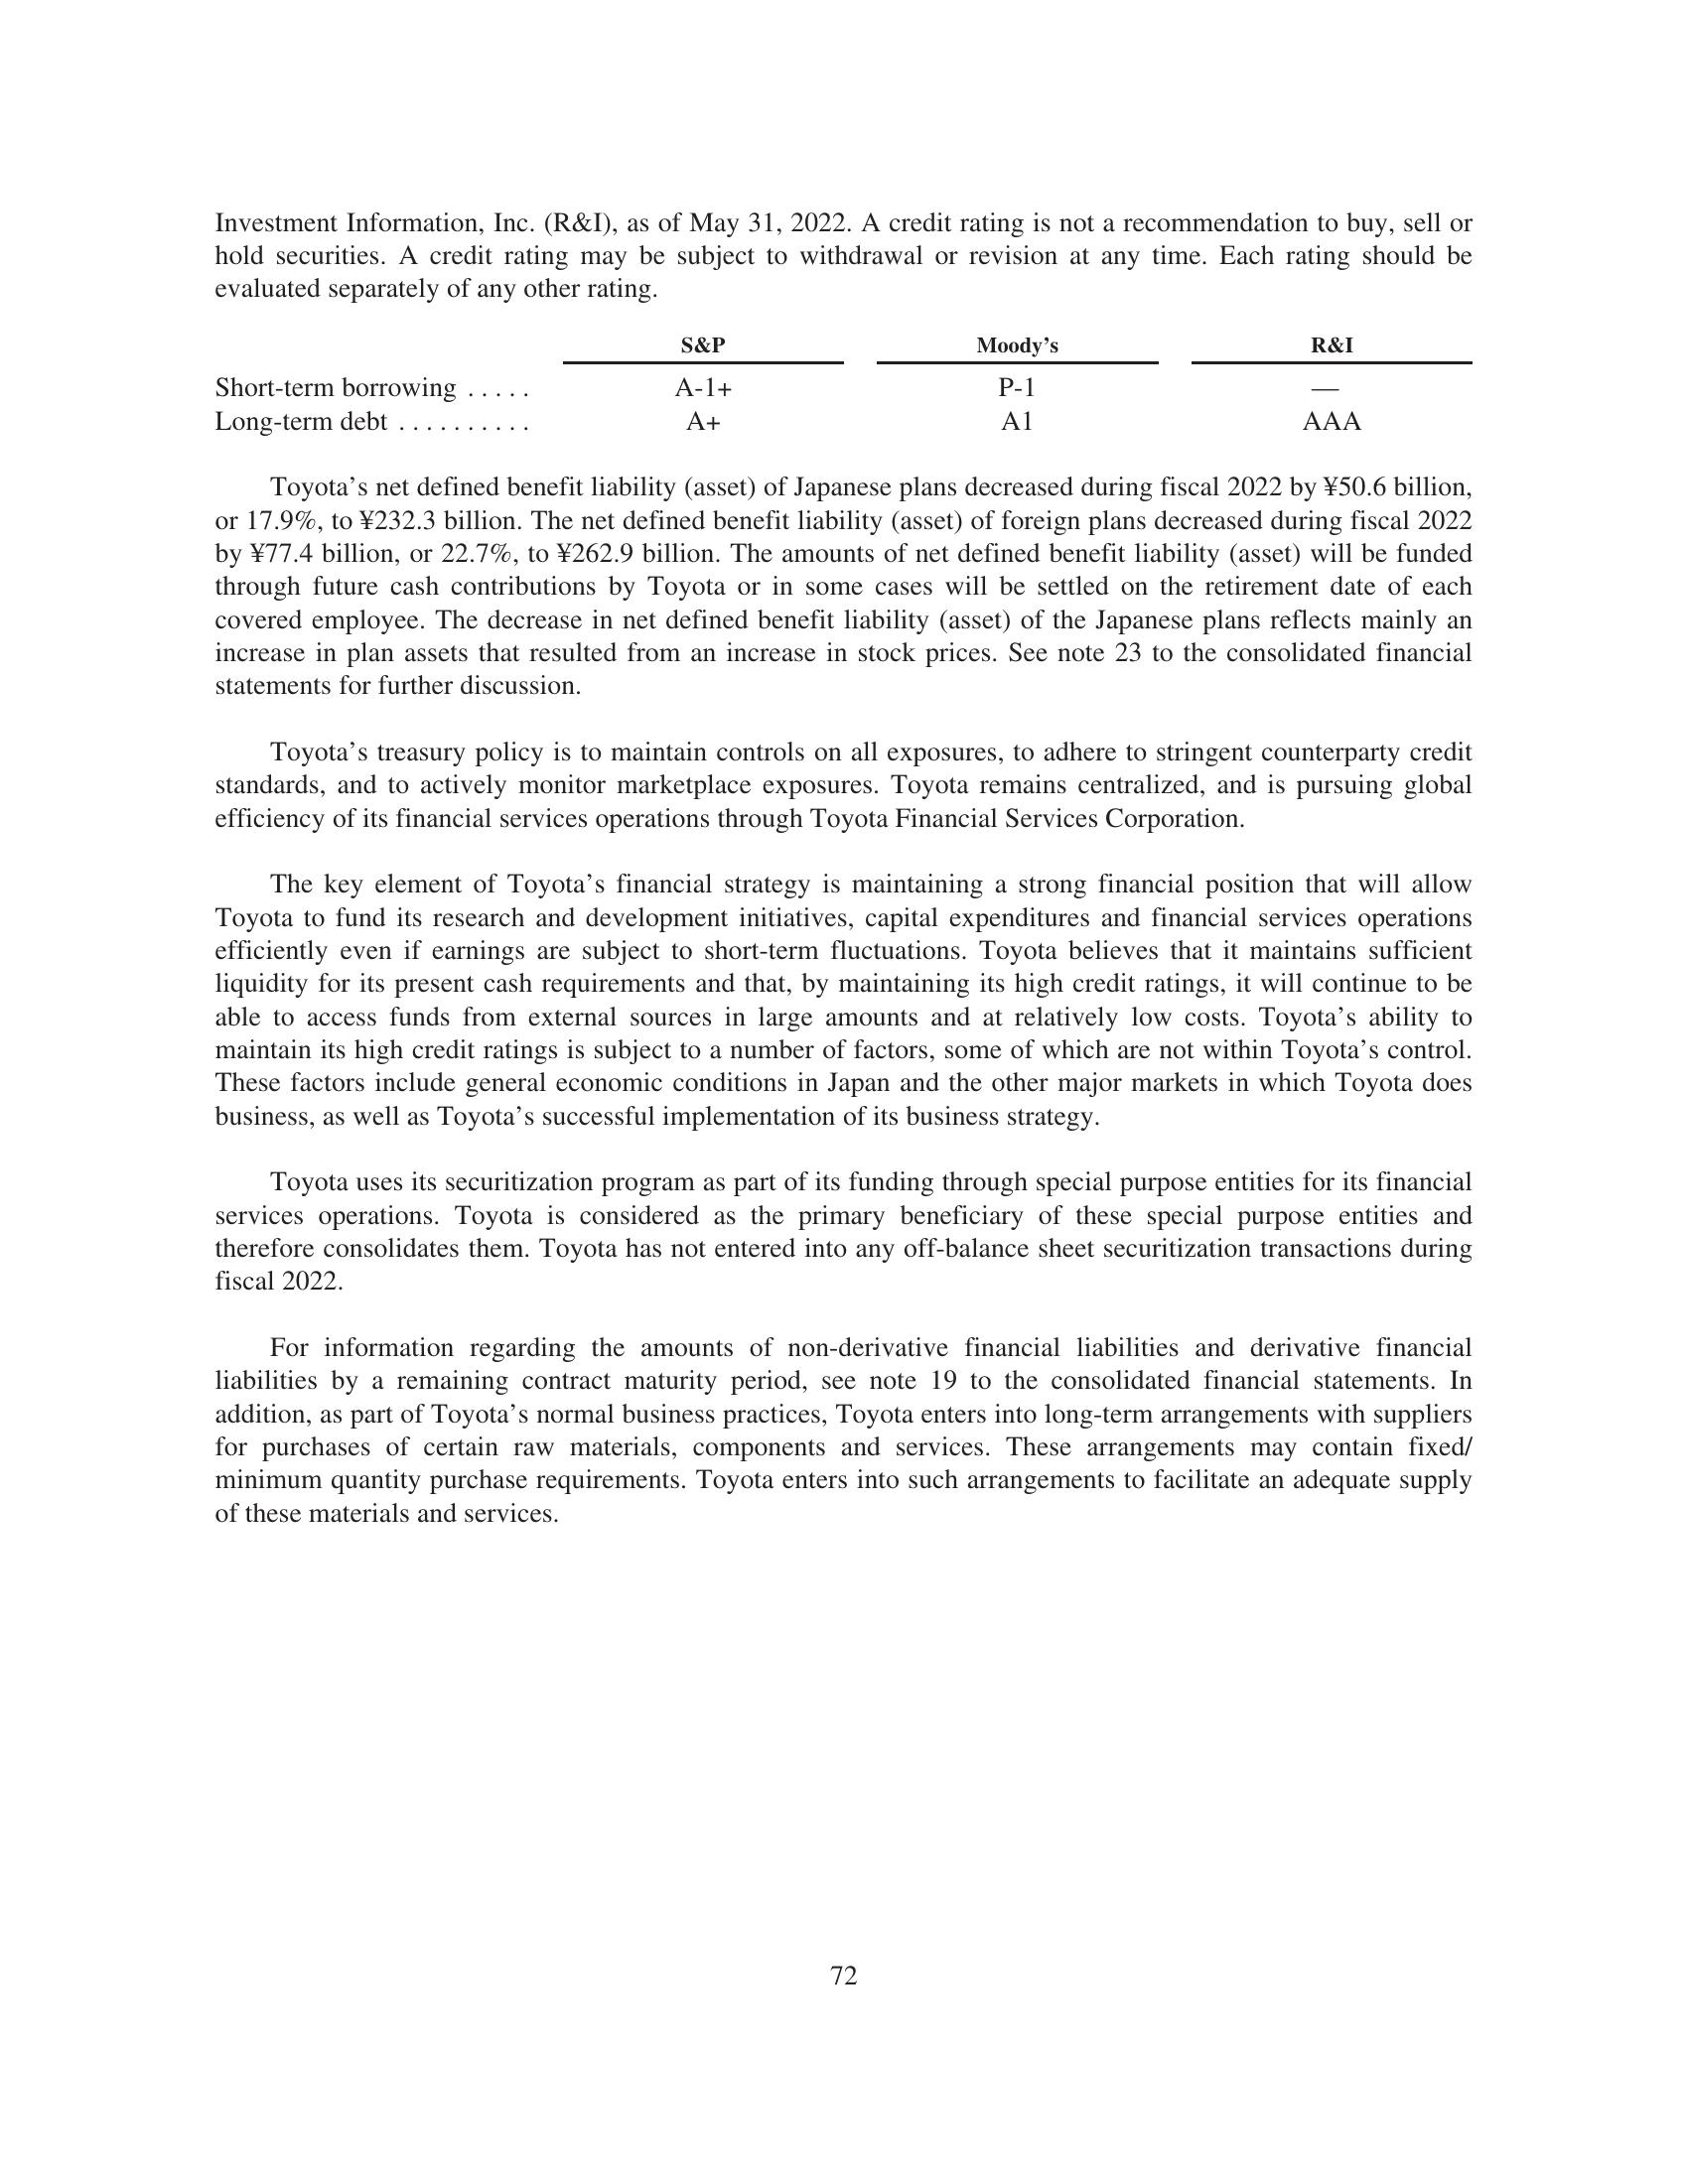Footer: (0, 1941, 1688, 2184)
Header: (0, 0, 1688, 183)
Table: (163, 319, 1546, 434)
